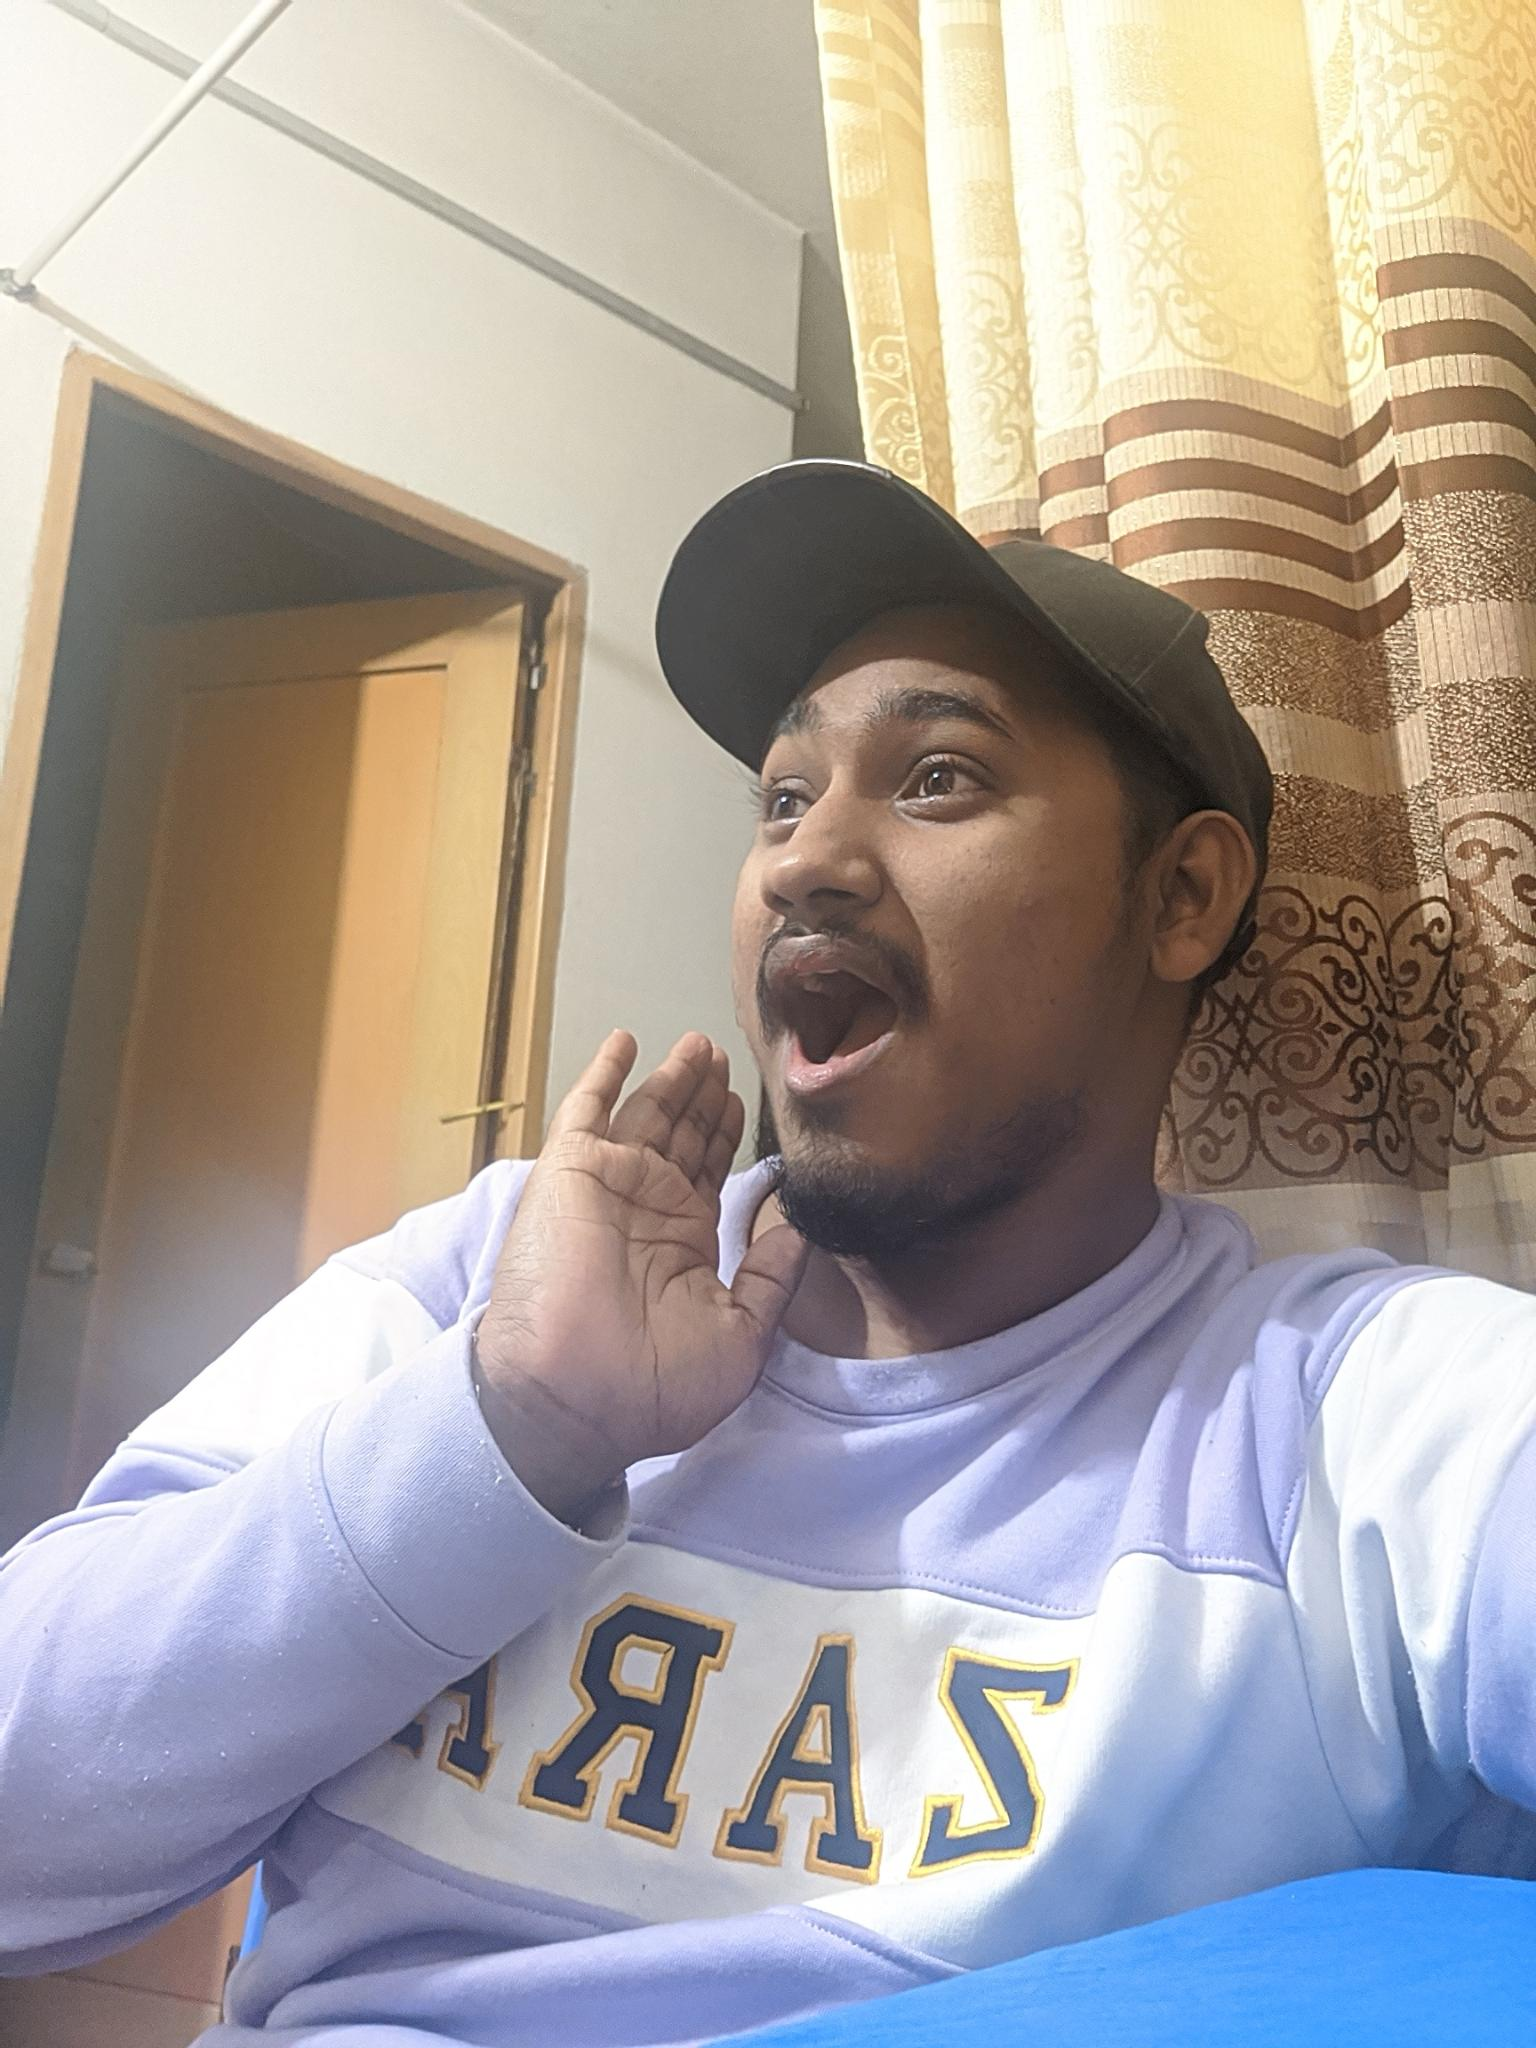Surprise: (636, 632, 1112, 1176)
